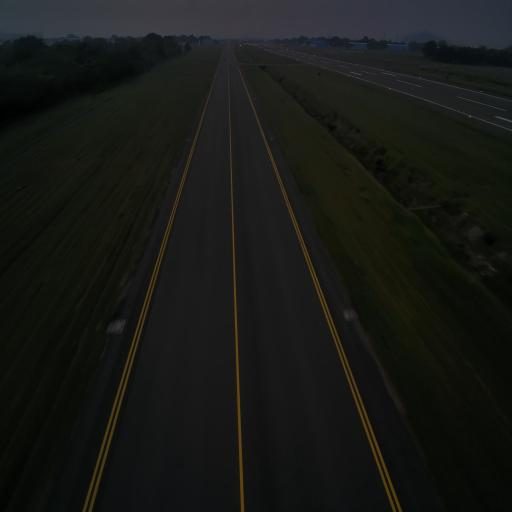on: (345, 306, 350, 317), (117, 317, 122, 327), (271, 135, 273, 140), (188, 138, 190, 142)
